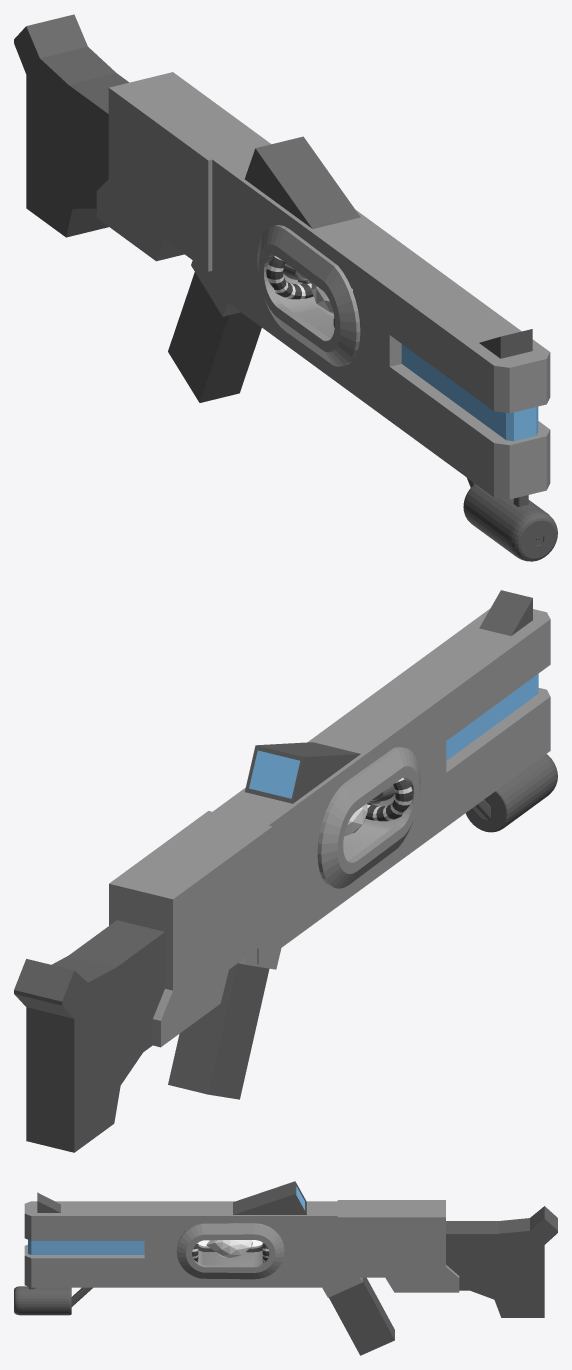
File: lazer blaster.fbx
The picture shows the model from 3 angles, top to bottom: view 1: azimuth 30°, elevation 25°; view 2: azimuth 150°, elevation 25°; view 3: azimuth 270°, elevation 25°; orthographic projection. The views are drawn at different scales.
Parts seen in each view (by area): view 1: Cube.001, Cylinder, Cube.002, Torus.002; view 2: Cube.001, Cylinder, Cube.002, Cube.003, Torus.001; view 3: Cube.001, Cylinder, Cube.002, Icosphere.
Part boxes in pixels (x1,y1,x2,y2): Cube.001: [14, 14, 550, 499]; Cylinder: [463, 484, 557, 561]; Cube.002: [401, 344, 538, 441]; Torus.002: [266, 256, 313, 299]; Cube.001: [14, 590, 550, 1152]; Cylinder: [465, 754, 557, 832]; Cube.002: [446, 674, 538, 760]; Cube.003: [249, 750, 300, 798]; Torus.001: [365, 778, 412, 821]; Cube.001: [24, 1181, 557, 1355]; Cylinder: [14, 1286, 71, 1315]; Cube.002: [28, 1240, 144, 1254]; Icosphere: [206, 1240, 252, 1258].
Bounding box in the file's own units: 165 × 604 × 1826.
